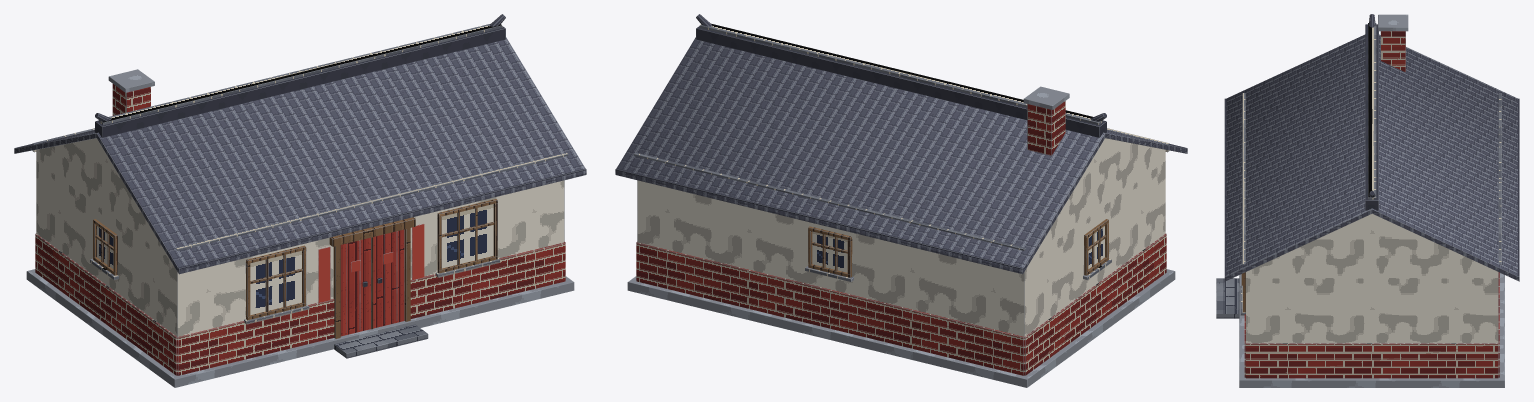
File: cn_brick_house_6.glb
The picture shows the model from 3 angles, left to right: view 1: azimuth 30°, elevation 25°; view 2: azimuth 150°, elevation 25°; view 3: azimuth 270°, elevation 25°; orthographic projection. The views are drawn at different scales.
Visible parts, largest first — view 1: cn_brick_house_7; view 2: cn_brick_house_7; view 3: cn_brick_house_7.
Boxes of the visible parts, x1,y1,x2,y2 form: cn_brick_house_7: [14, 14, 586, 387]; cn_brick_house_7: [615, 14, 1187, 387]; cn_brick_house_7: [1216, 14, 1519, 387].
Size of the model in its own units: 10.07 by 5.53 by 7.2.
14 materials, 14 textured.
